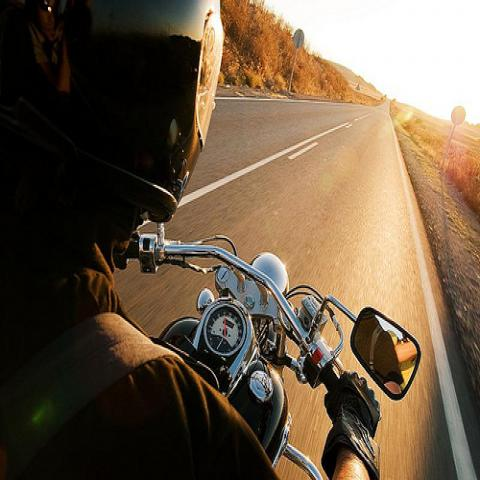motorcycle: (114, 221, 422, 475)
